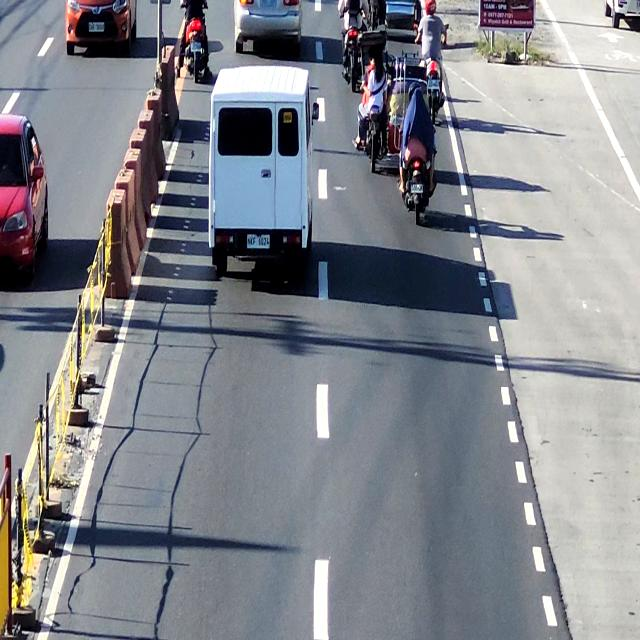Car: (208, 66, 316, 275), (237, 0, 301, 56)
License-Plate: (246, 230, 270, 253), (409, 178, 424, 194), (190, 39, 203, 53)
Motorcycle: (398, 86, 434, 231), (421, 0, 447, 114), (176, 0, 210, 77), (342, 0, 365, 85)
Tricycle: (359, 35, 433, 168)
